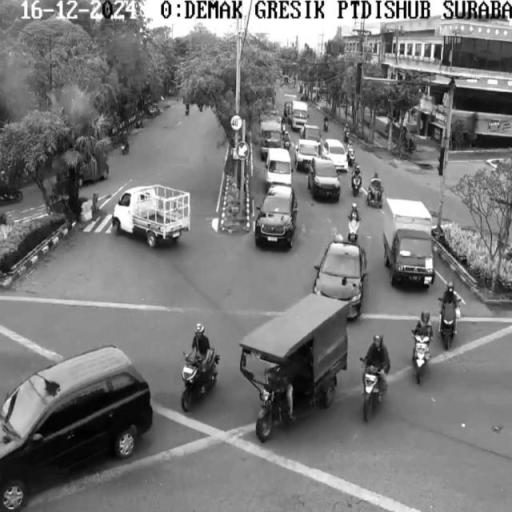car: (0, 345, 154, 512), (315, 242, 367, 318), (260, 185, 294, 252), (312, 162, 342, 204), (265, 149, 293, 189)
motorcycle: (178, 348, 220, 412), (358, 365, 386, 421), (440, 300, 457, 351), (414, 333, 428, 383), (347, 219, 361, 240)
truck: (249, 293, 353, 442), (380, 196, 437, 290), (114, 183, 192, 248)
